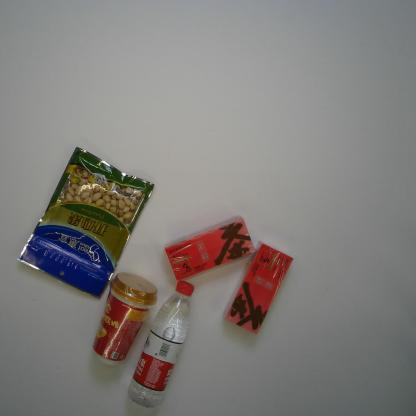Dried Fruit: (15, 146, 156, 300)
Drink: (127, 279, 195, 409)
Instant Drink: (221, 240, 295, 341), (90, 272, 157, 367), (163, 214, 256, 282)
